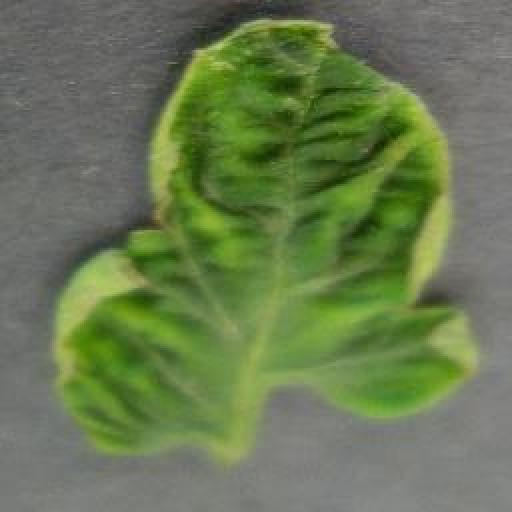Yellow Leaf Curl Virus: (55, 16, 482, 464)
